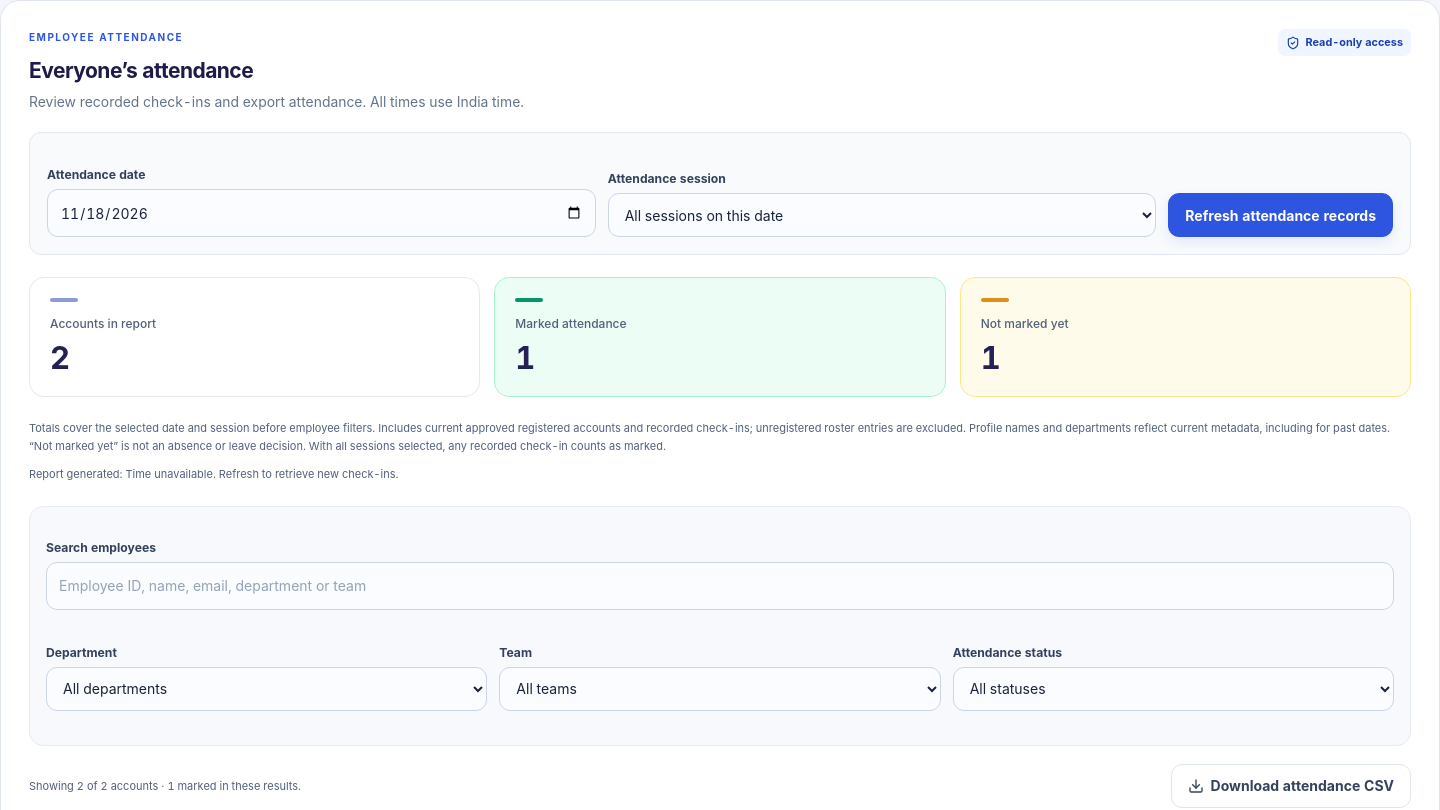
Test: employee-ID and multi-field search work, department changes clear team and clear filters restores rows
Type "SV064 Bops" into the field labelled "Search employees".
click(720, 586); type("SV064 Bops")  # box [46, 562, 1394, 610]
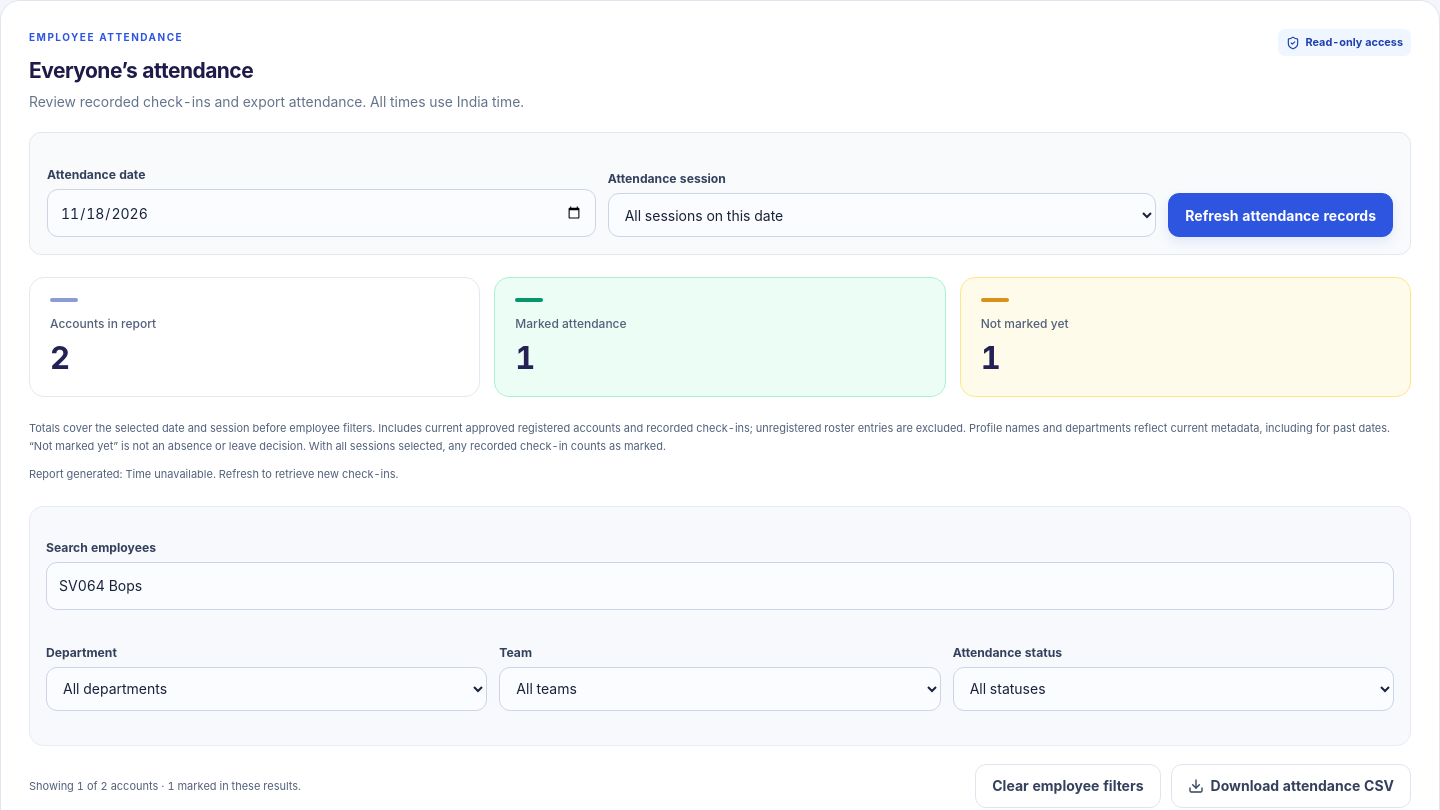
Expected: the text "Supriti" is not shown
Select "Bops" in the dropdown labelled "Team" at (720, 689), box [499, 667, 941, 711]
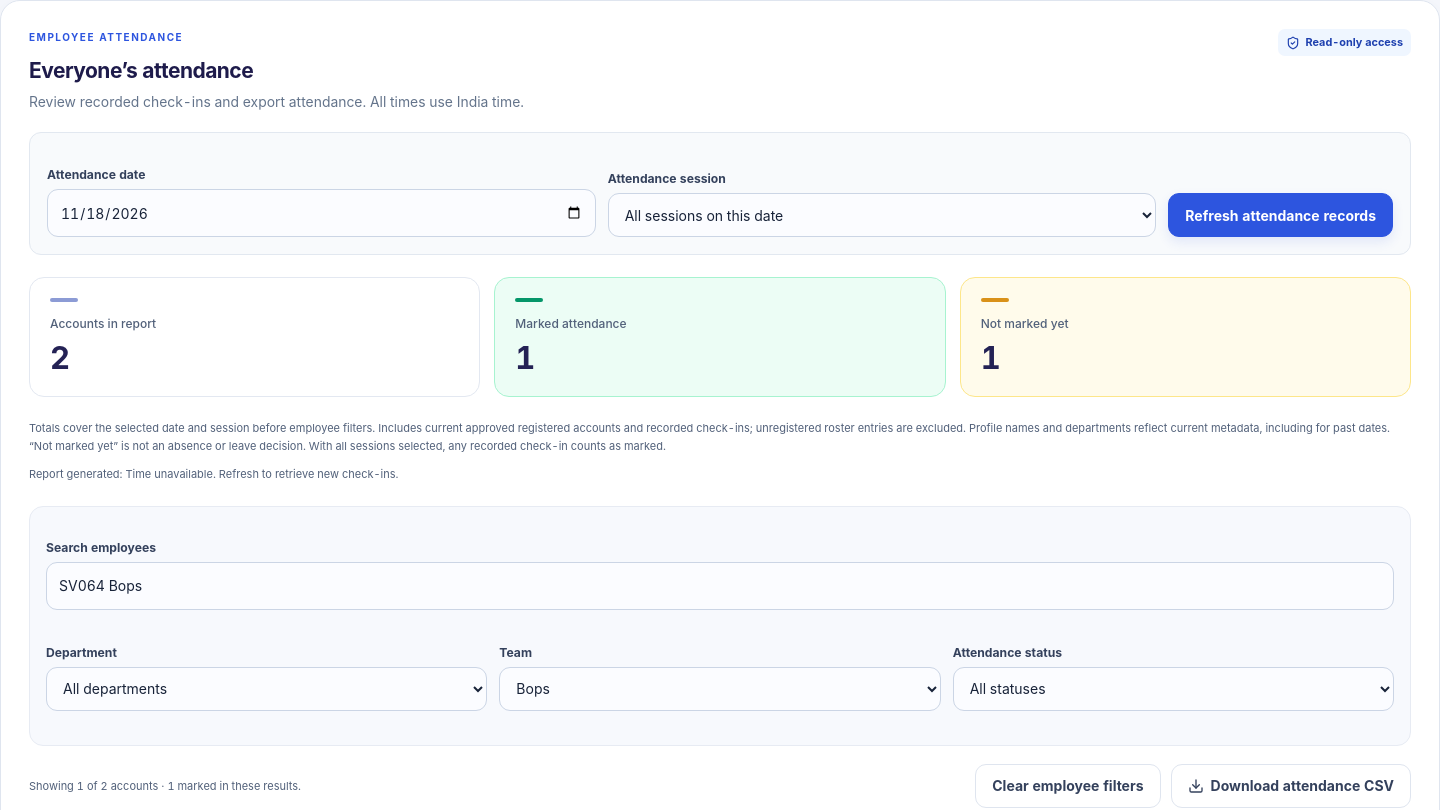
Select "Inside Sales" in the dropdown labelled "Department" at (267, 689), box [46, 667, 487, 711]
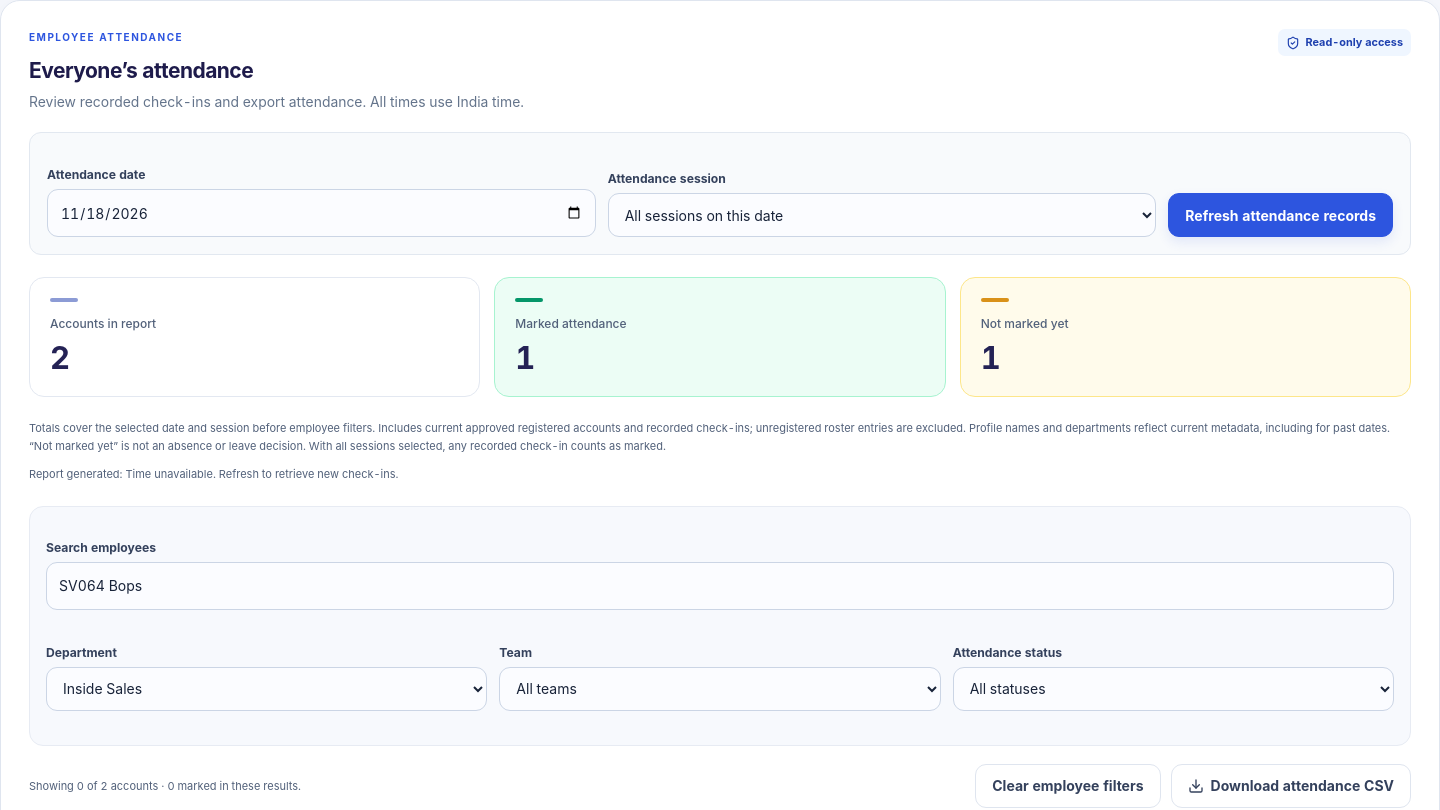
Click the button "Clear employee filters".
click(1068, 786)  # box [975, 764, 1161, 808]
(page scrolled)
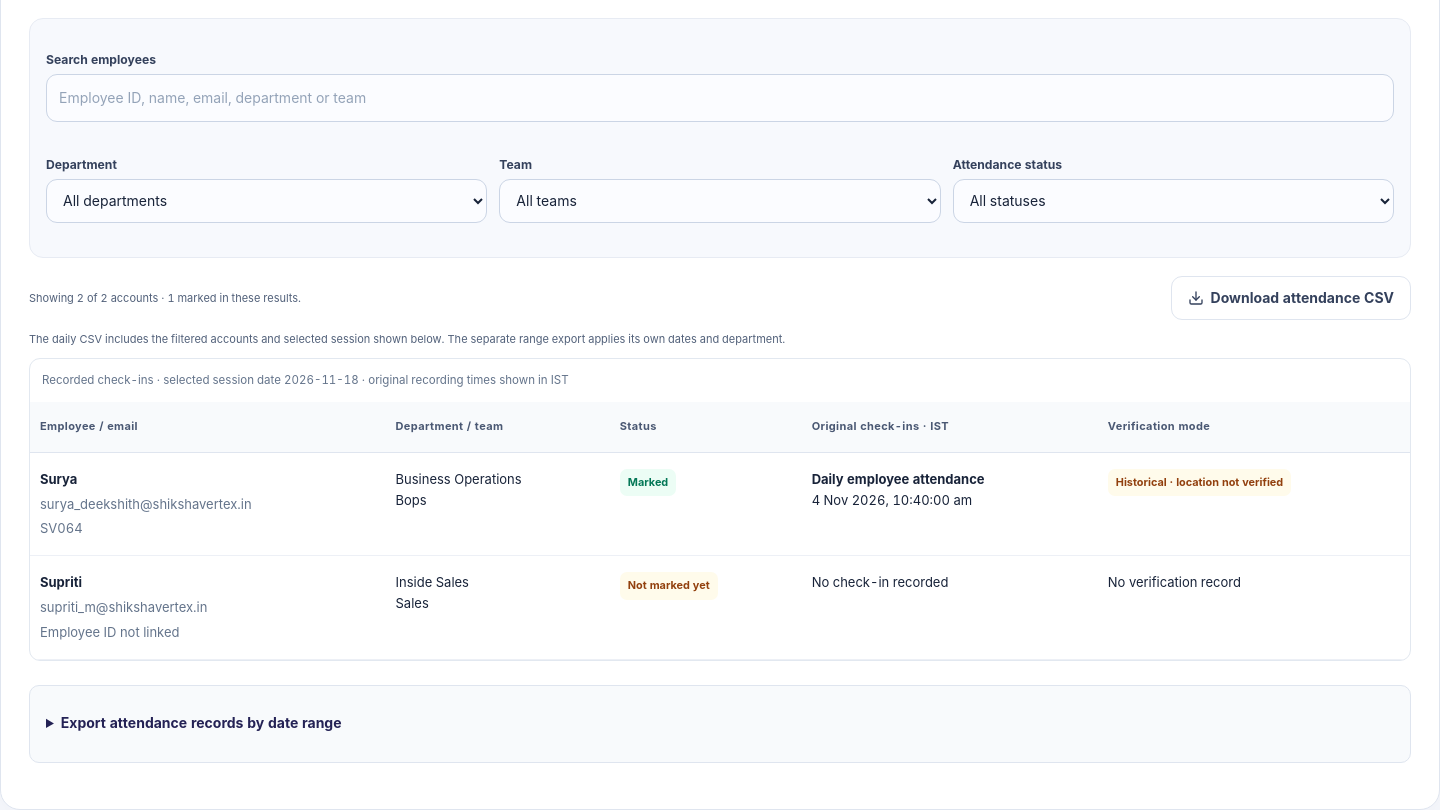
Expected: the text "Surya" is shown, [40, 471, 77, 487]
Expected: the text "Supriti" is shown, [40, 574, 82, 590]
